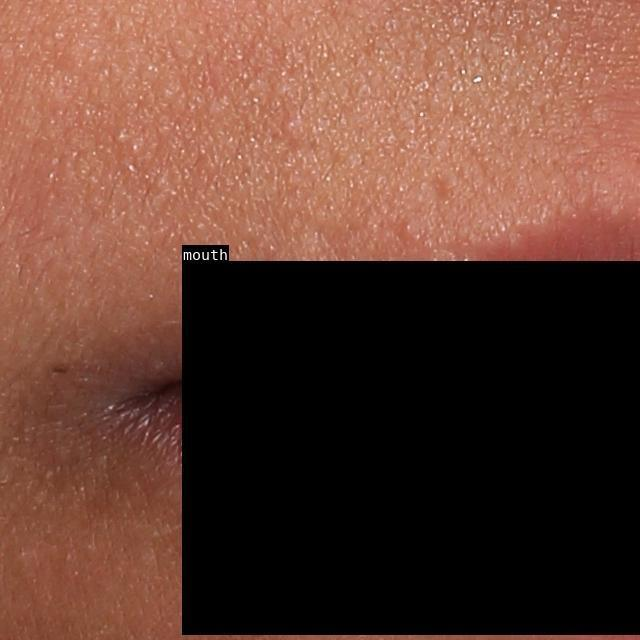comedo: (399, 220, 416, 240), (114, 126, 129, 148), (283, 116, 300, 134)
